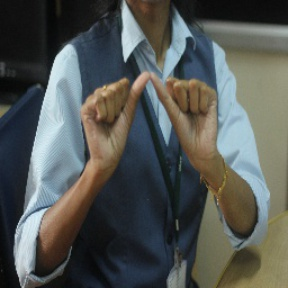A: (96, 65, 213, 158)
